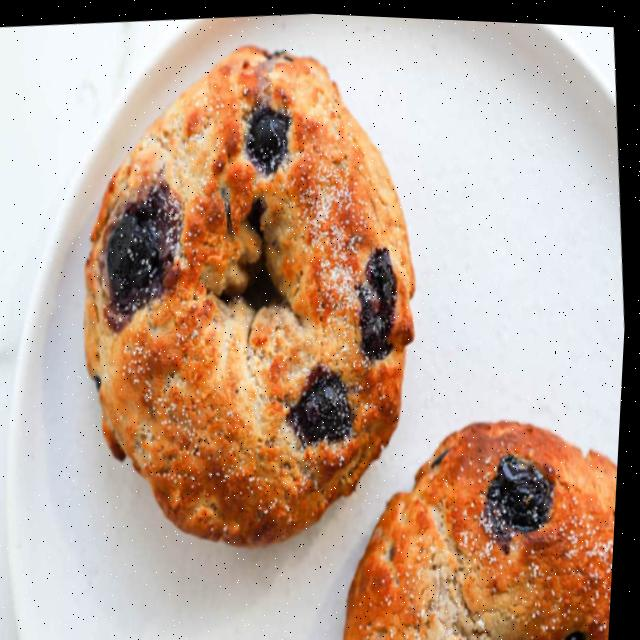Bagel: (87, 44, 416, 543), (349, 416, 622, 640)
